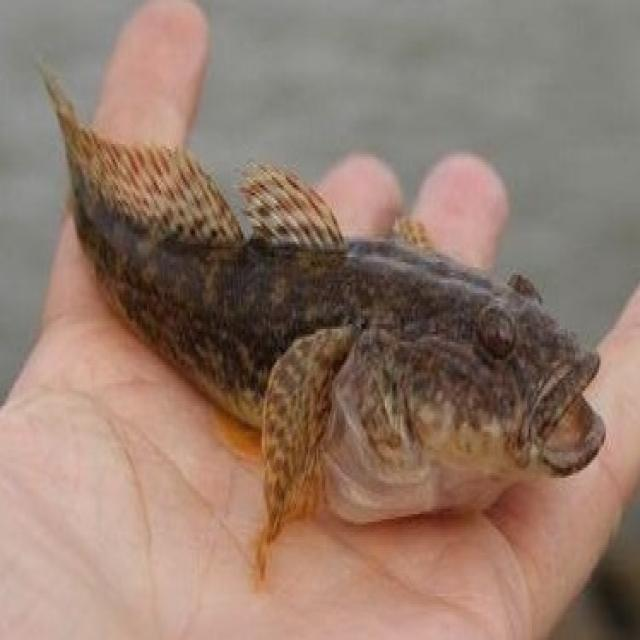Goby: (0, 10, 619, 560)
